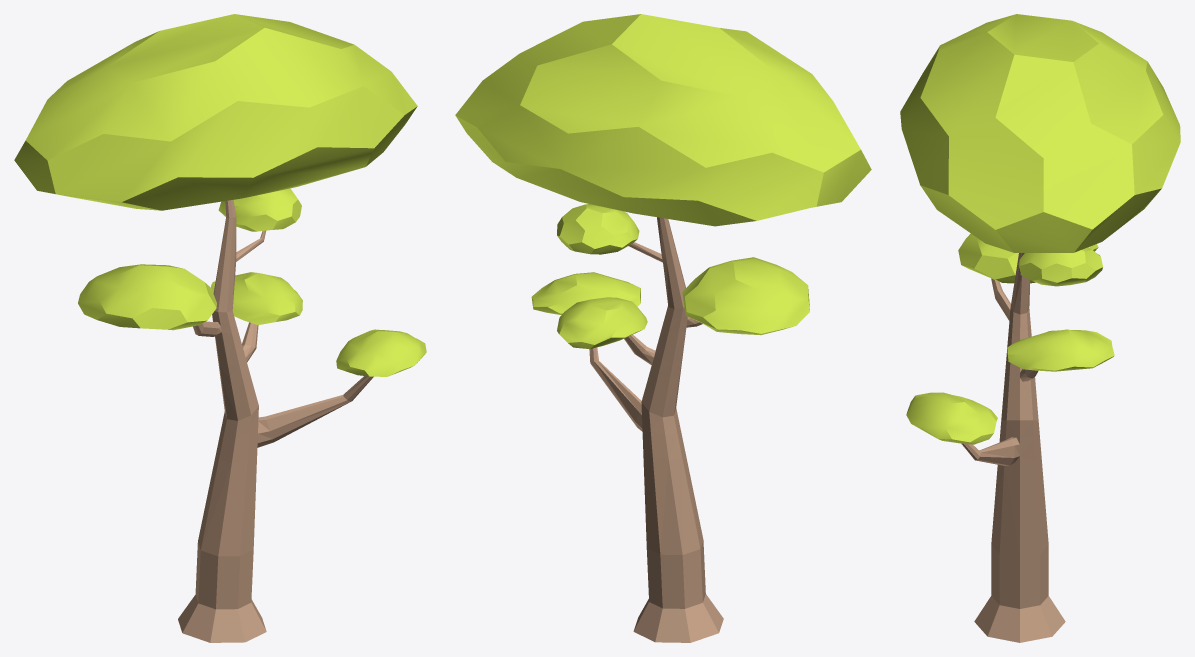
The model's file is tree.gltf.
3 views of the same model, side by side, from view 1: azimuth 30°, elevation 25°; view 2: azimuth 150°, elevation 25°; view 3: azimuth 270°, elevation 25° (orthographic). The views are drawn at different scales.
Parts seen in each view (by area): view 1: Platonic, Cylinder, Platonic.1, Platonic.2, Platonic.3, Platonic.4; view 2: Platonic, Cylinder, Platonic.1, Platonic.3, Platonic.4, Platonic.2; view 3: Platonic, Cylinder, Platonic.3, Platonic.2, Platonic.4, Platonic.1.
Boxes of the visible parts, box(x1,y1,x2,y2) form: Platonic: box(14, 14, 417, 210); Cylinder: box(178, 200, 373, 642); Platonic.1: box(78, 264, 216, 330); Platonic.2: box(336, 329, 426, 376); Platonic.3: box(211, 272, 302, 324); Platonic.4: box(218, 188, 301, 231); Platonic: box(455, 14, 871, 226); Cylinder: box(589, 217, 723, 642); Platonic.1: box(682, 257, 809, 335); Platonic.3: box(557, 297, 647, 348); Platonic.4: box(557, 204, 639, 254); Platonic.2: box(531, 272, 640, 314); Platonic: box(900, 14, 1180, 252); Cylinder: box(961, 253, 1065, 642); Platonic.3: box(1007, 329, 1114, 371); Platonic.2: box(906, 392, 997, 444); Platonic.4: box(1018, 247, 1102, 286); Platonic.1: box(958, 233, 1098, 283).
Bounding box in the file's own units: 722 × 1129 × 488.
